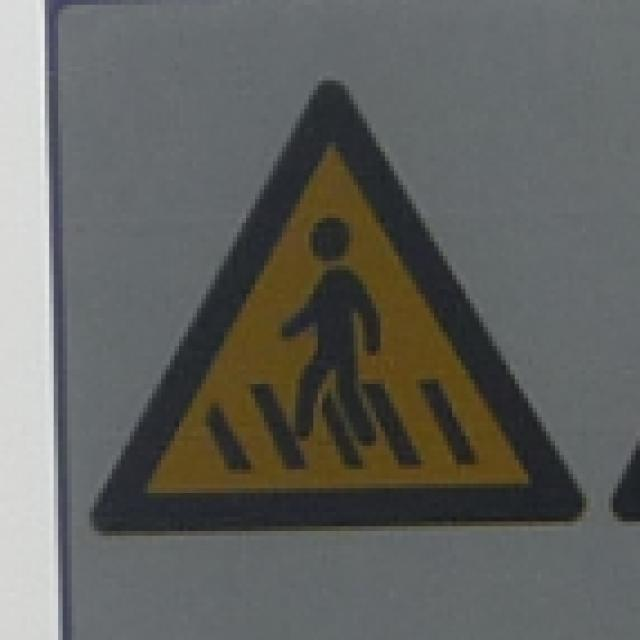Crossing: (95, 60, 589, 531)
